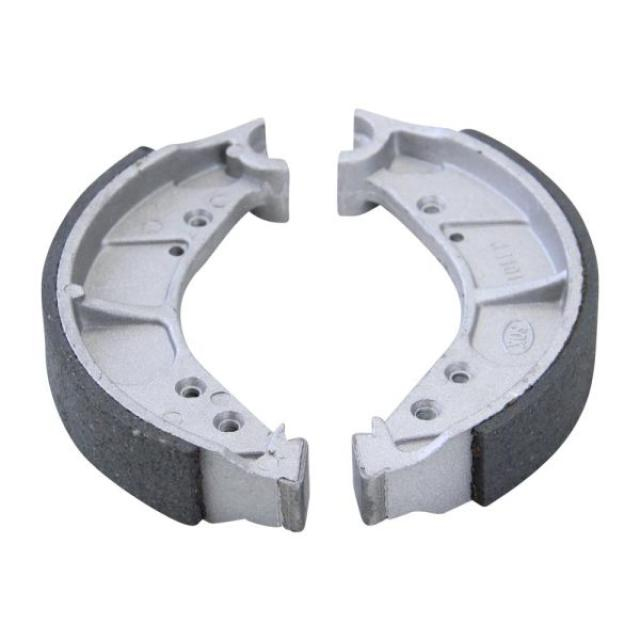brake_pad: (331, 98, 605, 530), (33, 112, 313, 532)
